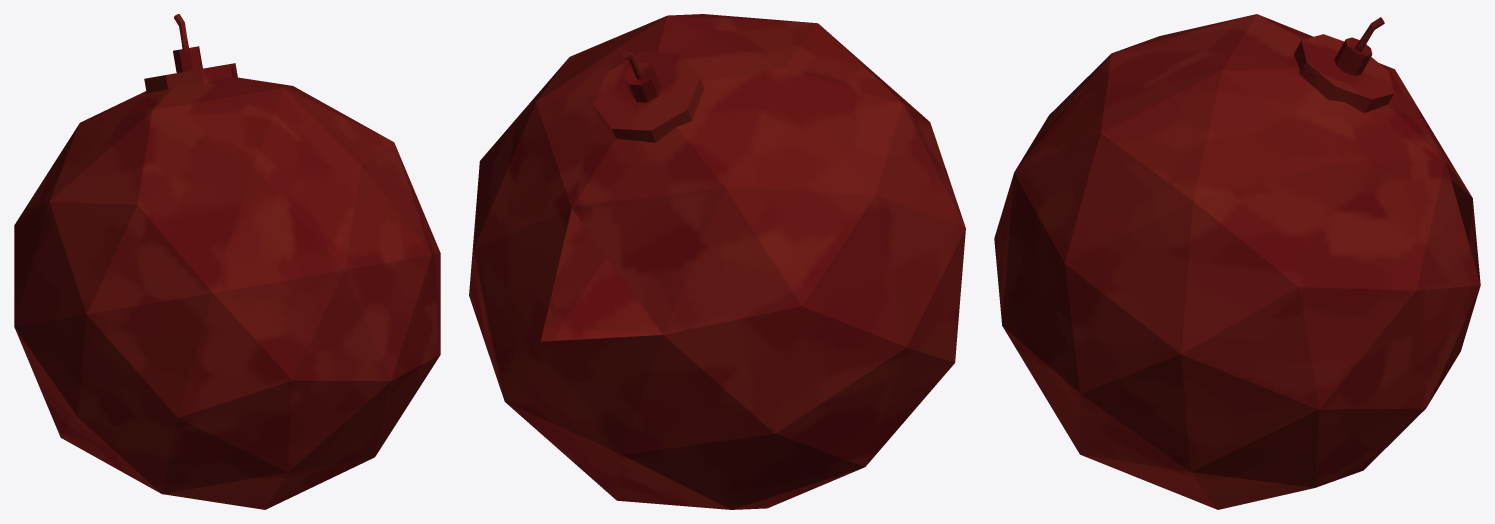
Rendered from Bomb_ammo.glb.
3 views of the same model, side by side, from view 1: azimuth 30°, elevation 25°; view 2: azimuth 150°, elevation 25°; view 3: azimuth 270°, elevation 25° (orthographic). The views are drawn at different scales.
Parts seen in each view (by area): view 1: Cube.001; view 2: Cube.001; view 3: Cube.001.
Boxes of the visible parts, box(x1,y1,x2,y2) form: Cube.001: box(14, 14, 440, 509); Cube.001: box(469, 14, 965, 509); Cube.001: box(994, 14, 1480, 509).
Bounding box in the file's own units: 0.3945 × 0.4215 × 0.3949.
Materials: 1 (1 with a texture image).
